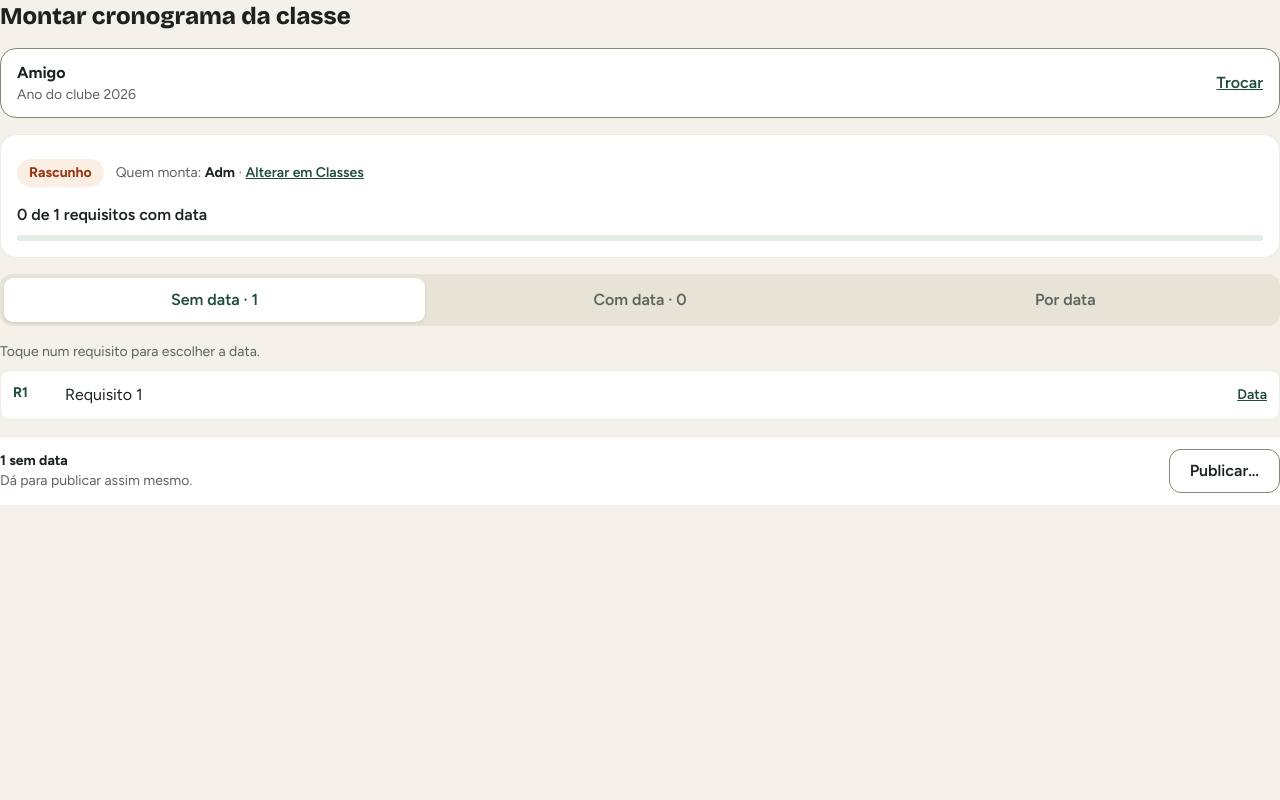
it: A7 celular · folha sem data para escolher › individual sem datas no período: explica de onde vêm as datas e leva ao calendário
Expected: the text "0 de 1 requisitos com data" is shown, left=17, top=205, right=207, bottom=224
Click the button "R1 Requisito 1 Data": (104, 394) left=0, top=370, right=1279, bottom=420
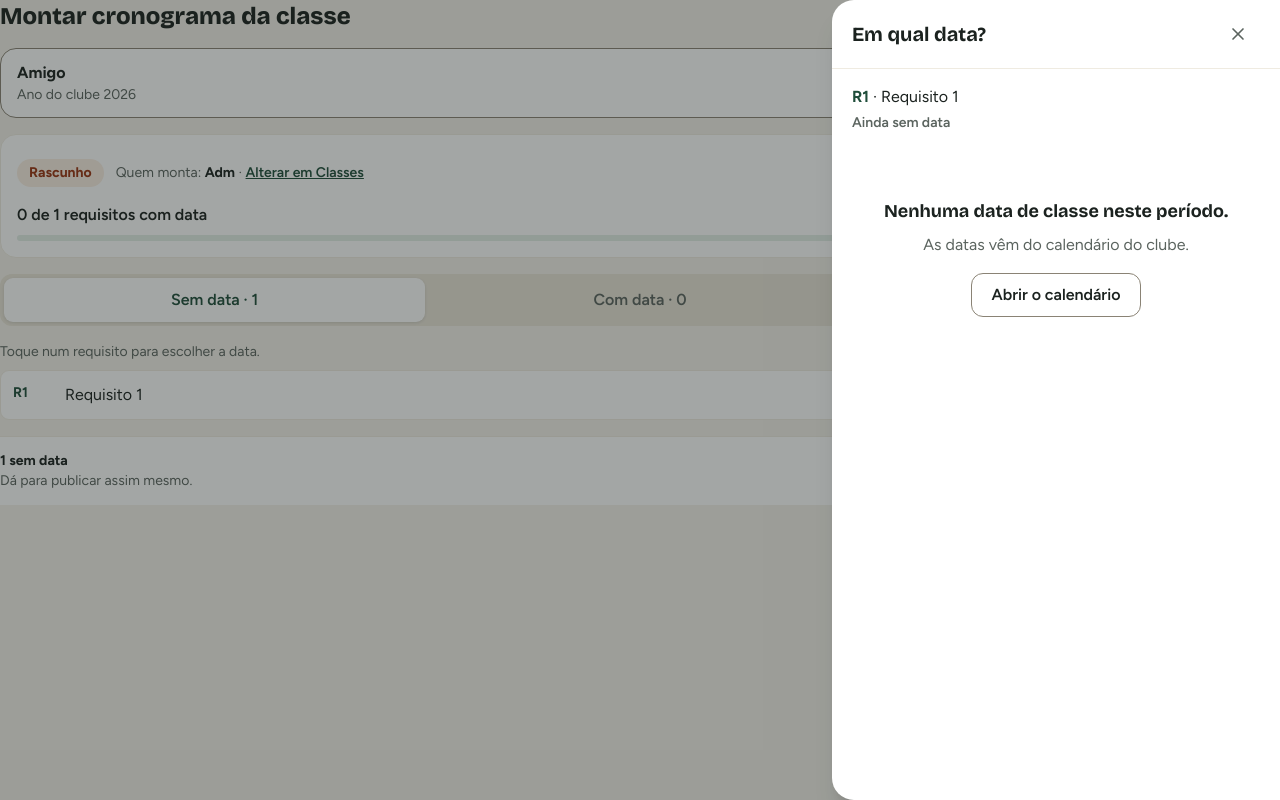
Expected: the heading "Nenhuma data de classe neste período." is shown, left=884, top=197, right=1228, bottom=225
Expected: the text "As datas vêm do calendário do clube." is shown, left=923, top=233, right=1189, bottom=257
